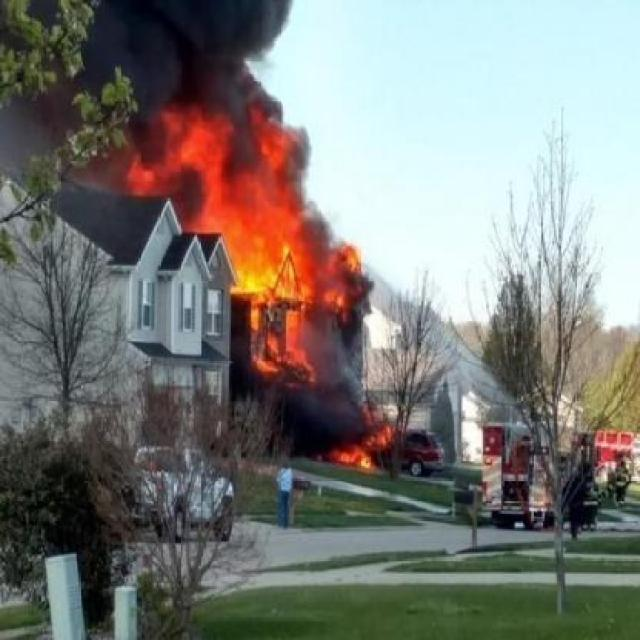Fire: (106, 111, 347, 448), (322, 420, 427, 502)
Smoke: (77, 3, 321, 109)
